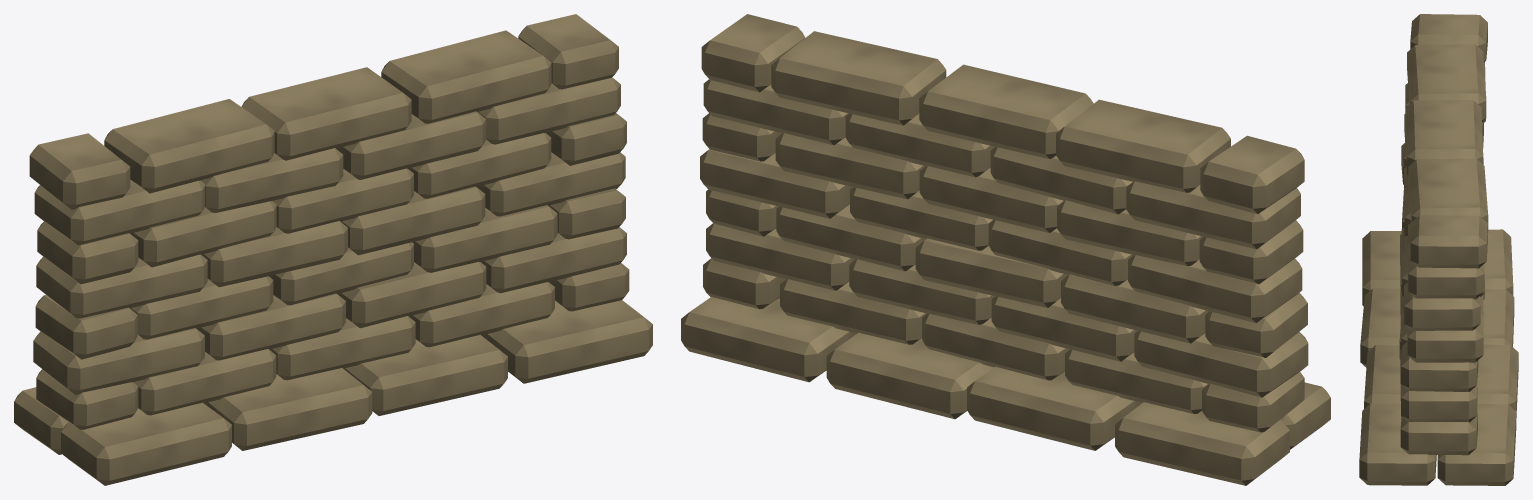
File: sandbags.fbx
The picture shows the model from 3 angles, left to right: view 1: azimuth 30°, elevation 25°; view 2: azimuth 150°, elevation 25°; view 3: azimuth 270°, elevation 25°; orthographic projection. The views are drawn at different scales.
Visible parts, largest first — view 1: sandbags; view 2: sandbags; view 3: sandbags.
Boxes of the visible parts, x1,y1,x2,y2 form: sandbags: (14, 14, 652, 485); sandbags: (681, 14, 1330, 485); sandbags: (1359, 14, 1518, 485).
Size of the model in its own units: 2.01 by 1.01 by 0.5856.
1 material, 1 textured.
